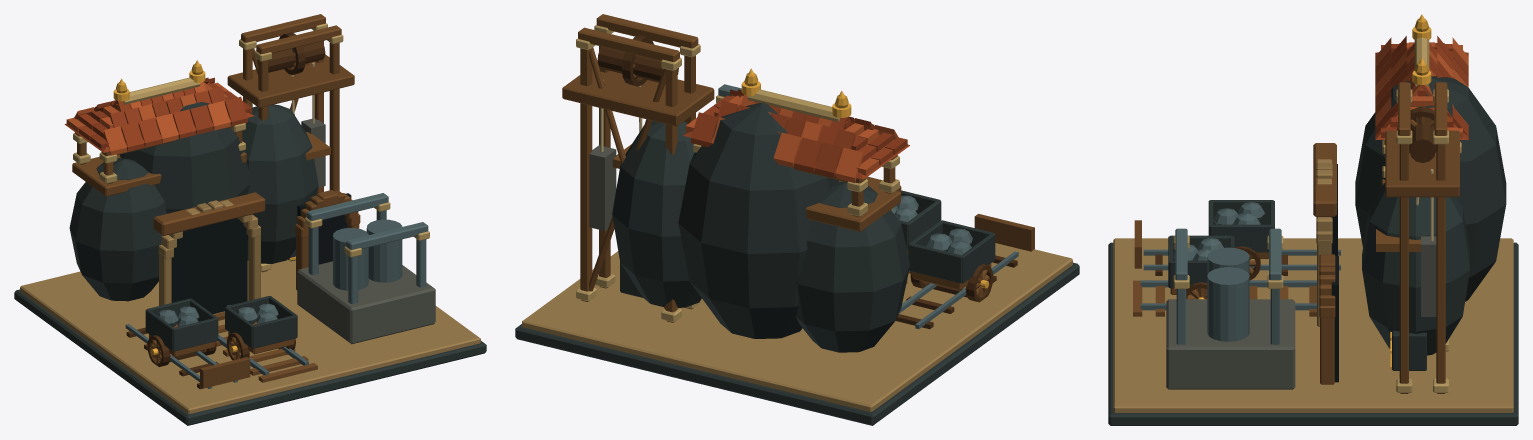
The picture shows the model from 3 angles, left to right: view 1: azimuth 30°, elevation 25°; view 2: azimuth 150°, elevation 25°; view 3: azimuth 270°, elevation 25°; orthographic projection. The views are drawn at different scales.
Parts seen in each view (by area): view 1: mine_10_structure, mine_10_metal; view 2: mine_10_structure, mine_10_metal; view 3: mine_10_structure, mine_10_metal.
Part boxes in pixels (box(x1,y1,x2,y2)): mine_10_structure: box(14, 14, 486, 425); mine_10_metal: box(113, 60, 295, 355); mine_10_structure: box(515, 14, 1079, 425); mine_10_metal: box(741, 68, 988, 288); mine_10_structure: box(1108, 19, 1518, 425); mine_10_metal: box(1198, 14, 1431, 369).
Bounding box in the file's own units: 5.6 × 4.3 × 5.6.
